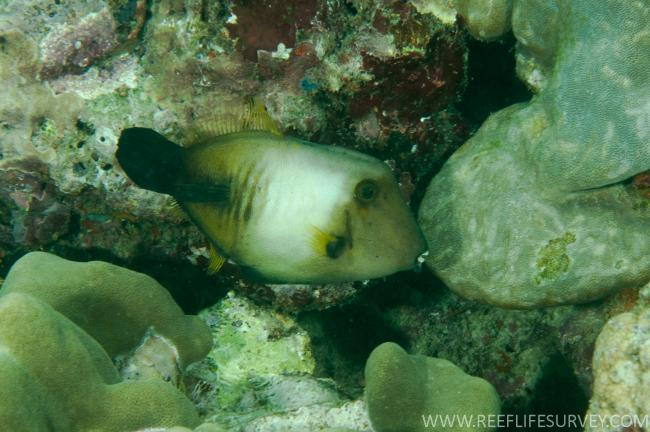fish: (117, 121, 429, 282)
